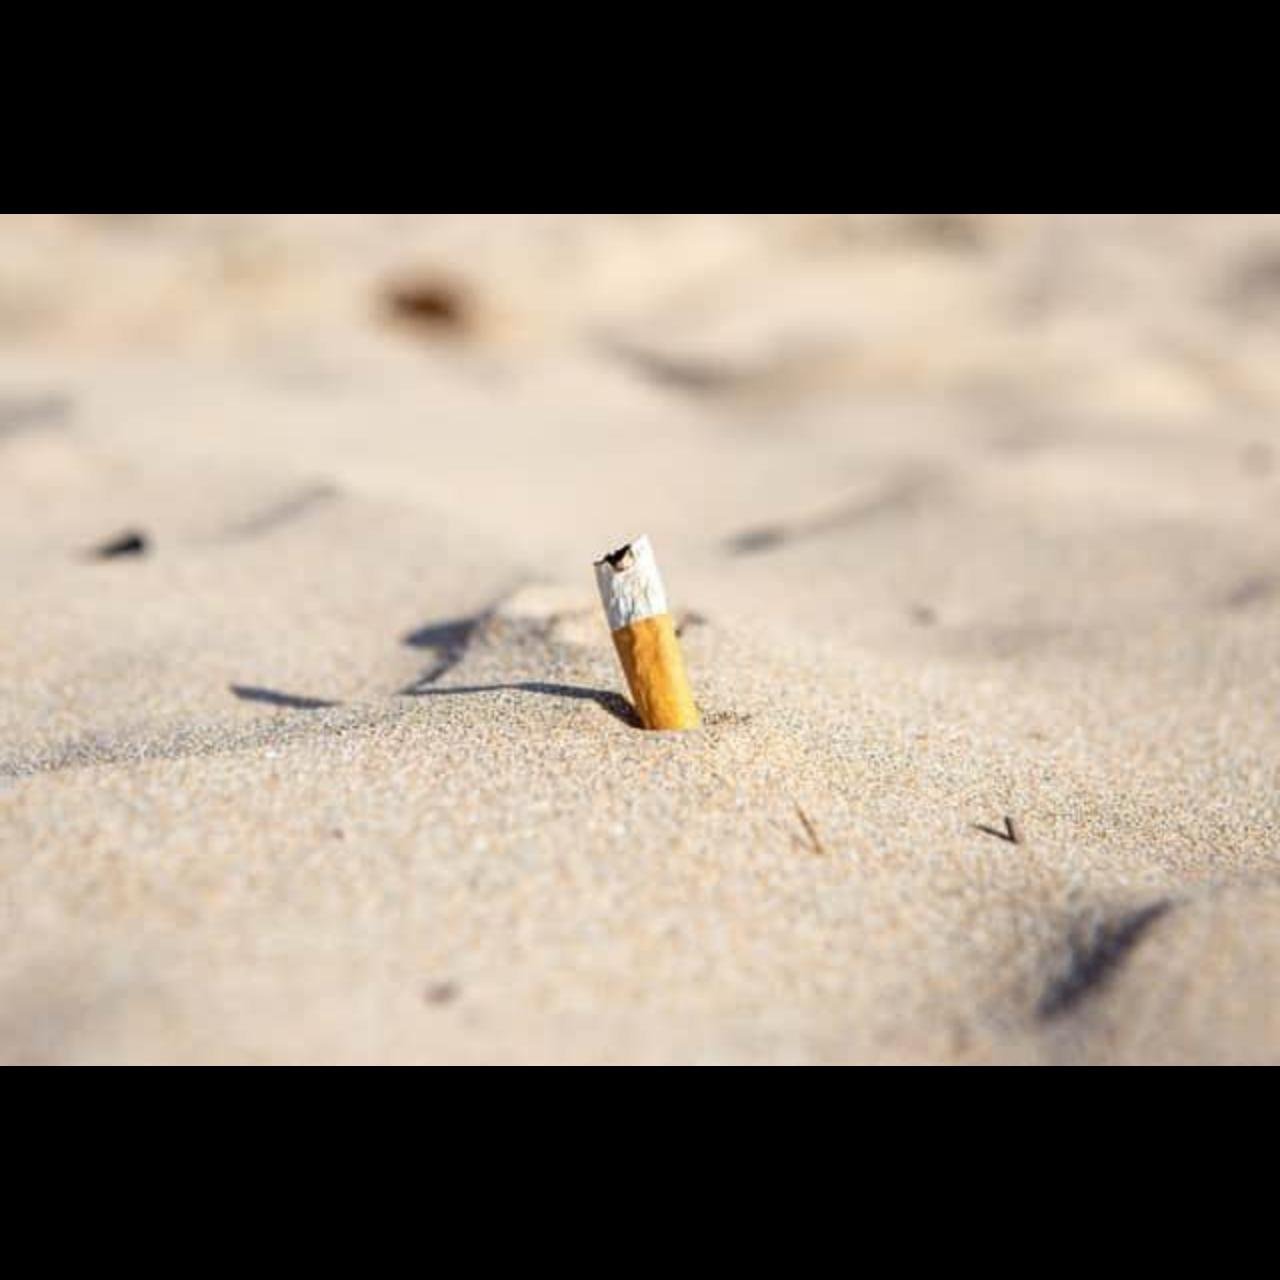cigarettes_butts: (592, 534, 700, 730)
